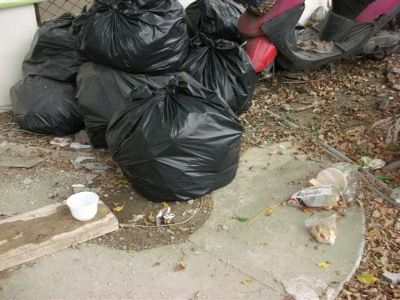bowl: (65, 190, 100, 223)
plastic_bag: (108, 90, 242, 201), (77, 1, 189, 75), (182, 34, 257, 113), (9, 75, 85, 136), (21, 13, 84, 81), (298, 162, 356, 208), (186, 1, 247, 38), (306, 210, 339, 245)
